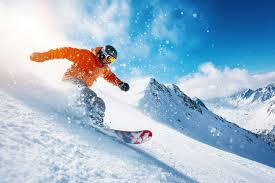snowboard: (86, 123, 153, 146)
